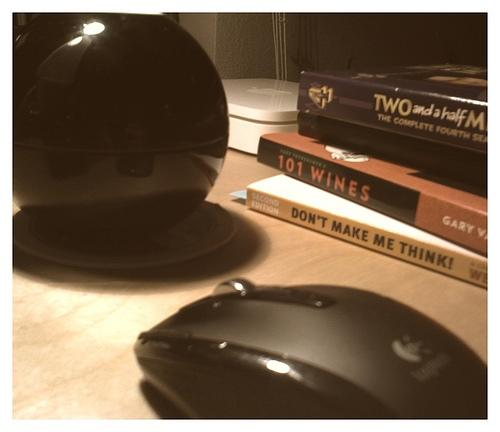apple: (247, 88, 292, 96)
